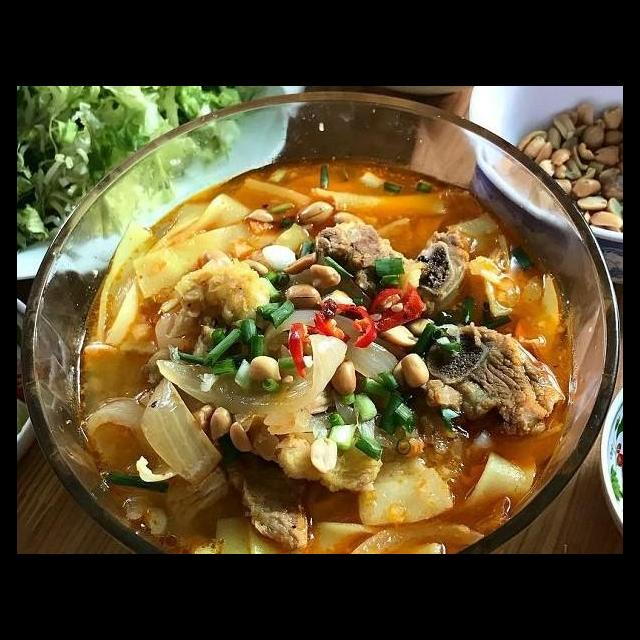mi: (81, 164, 319, 362), (204, 507, 488, 554), (446, 421, 541, 510)
thit heo: (403, 319, 571, 442), (306, 212, 474, 321), (220, 449, 313, 552), (272, 424, 389, 496), (156, 449, 235, 532)
